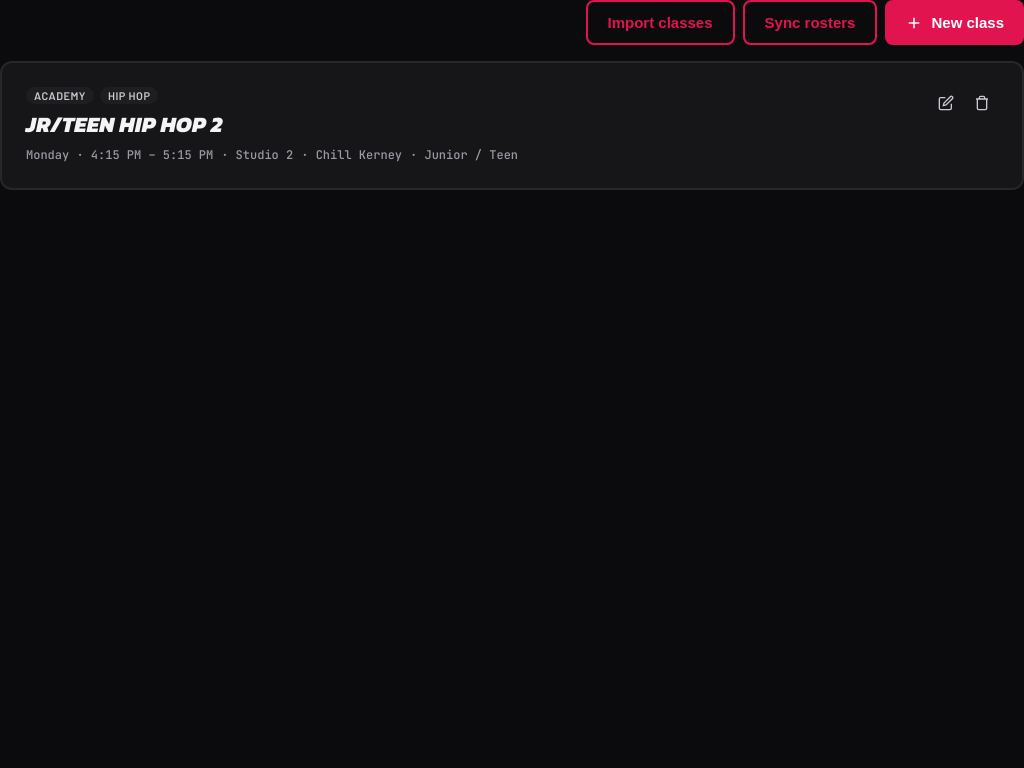
Test case: validation › refuses a class that ends before it starts
The width and height of the screenshot is (1024, 768).
Step 1. Click the button named "Edit Jr/Teen Hip Hop 2" → (946, 103), box [930, 87, 962, 119]
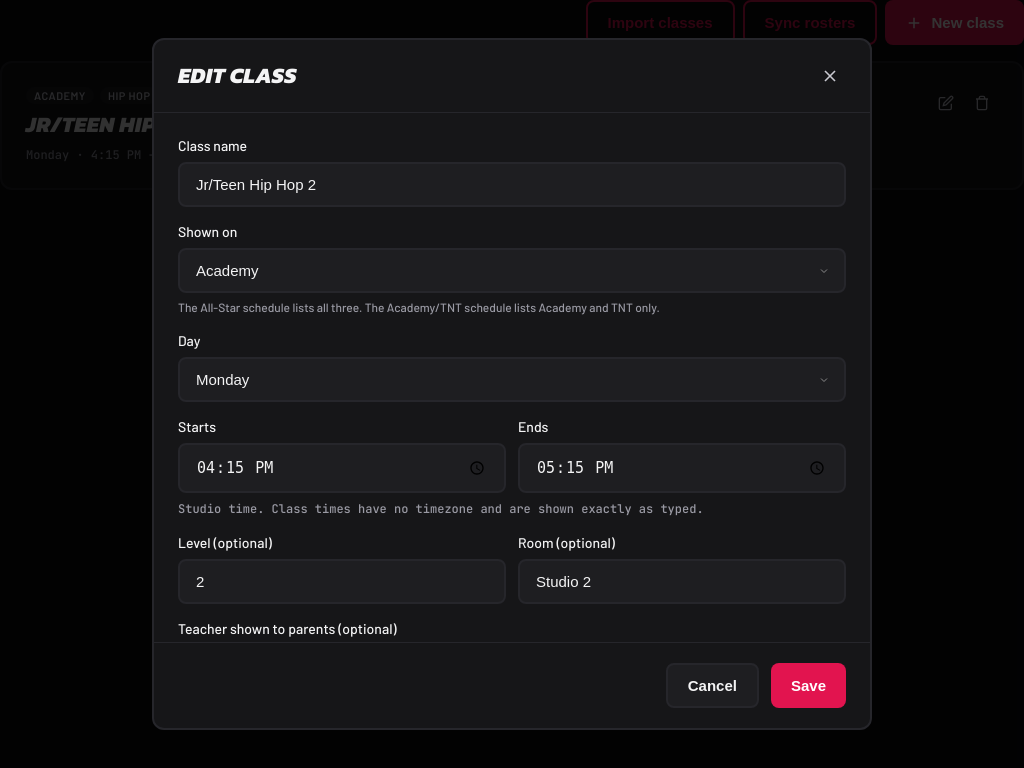
Step 2. Replace the text in the time field labelled "Ends" with "15:00" → (682, 468), box [518, 443, 846, 493]
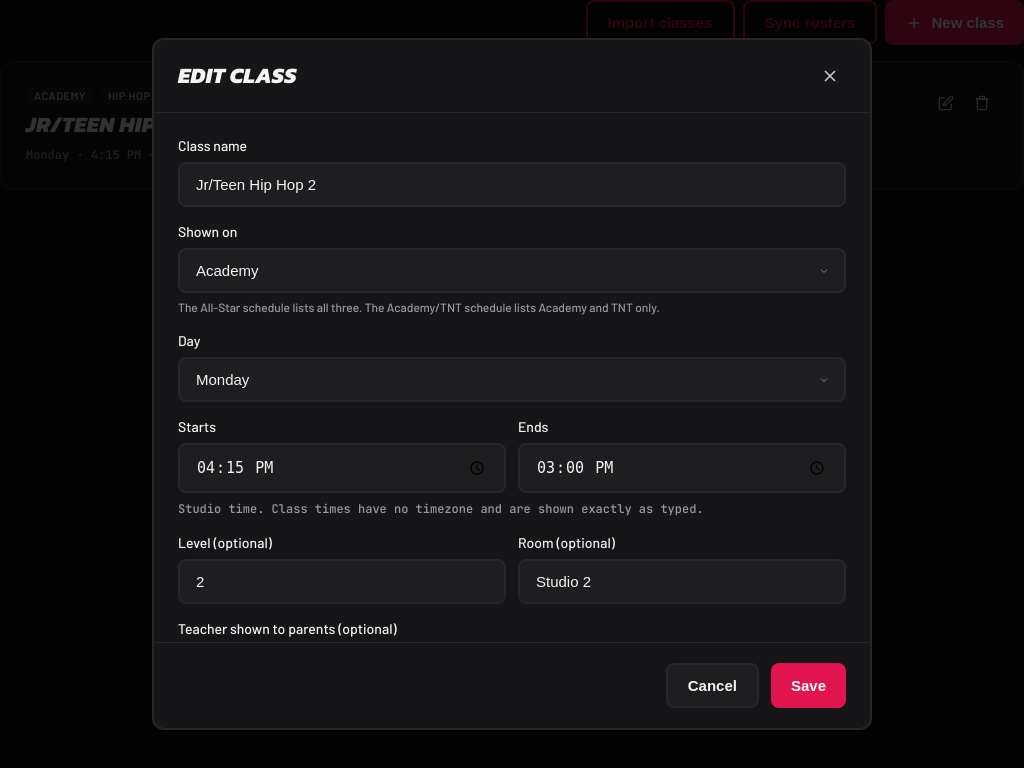
Step 3. Click the button "Save" → (808, 685), box [771, 663, 846, 708]
(page scrolled)
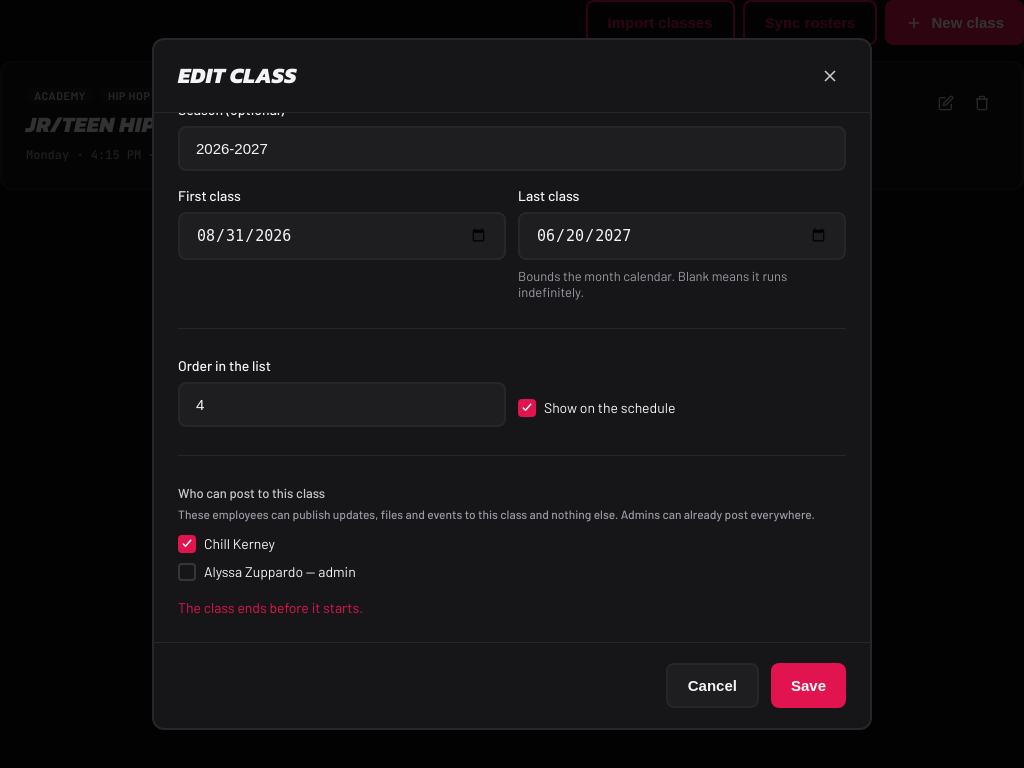
Expected: the text "The class ends before it starts." is shown, [178, 599, 363, 616]
